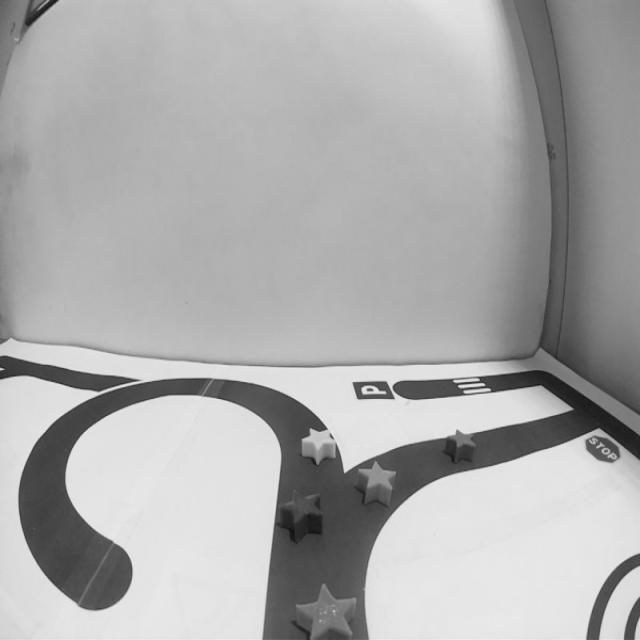star: (294, 584, 355, 640), (278, 489, 322, 542), (356, 460, 397, 508), (301, 427, 337, 465), (443, 429, 477, 463)
